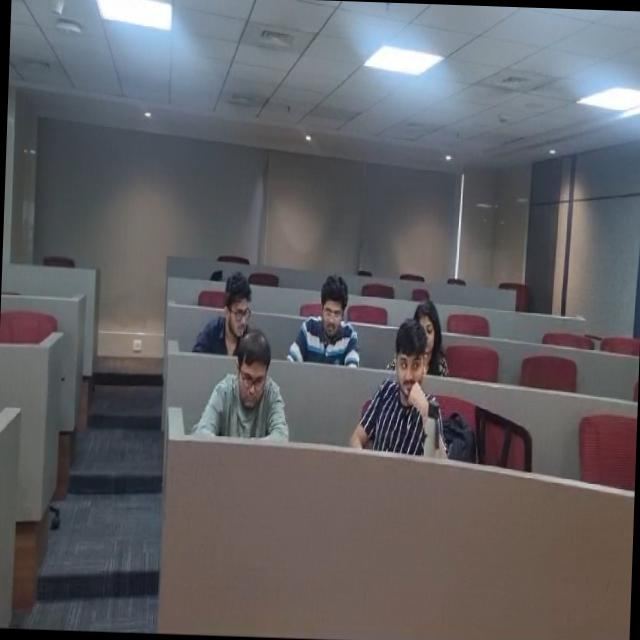cheating: (200, 264, 258, 343)
non-cheating: (203, 332, 292, 442), (372, 322, 433, 454), (296, 270, 364, 368), (408, 294, 454, 376)
